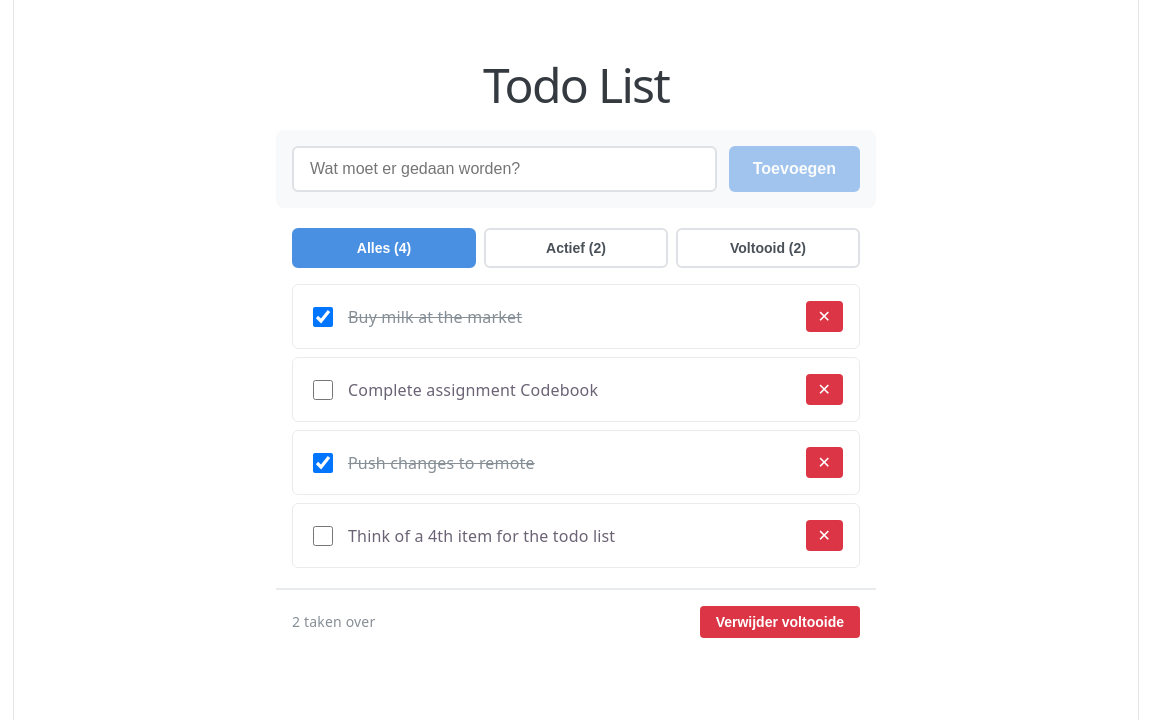
TodoList › should show non-completed todo items when filter is set to active
The image size is (1152, 720).
Click the button "Actief (2)": [576, 248] box [484,228,668,268]
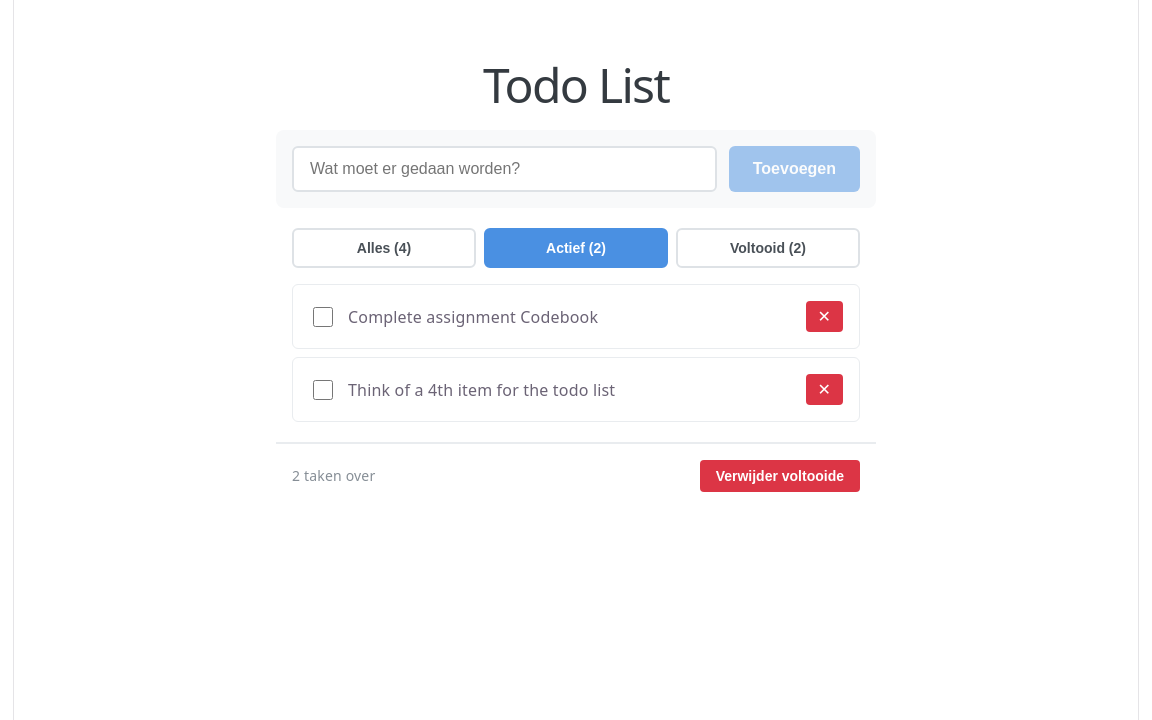
expect the number of "TodoItem" components is 2: met, box [292,284,860,349]; [292,357,860,422]
